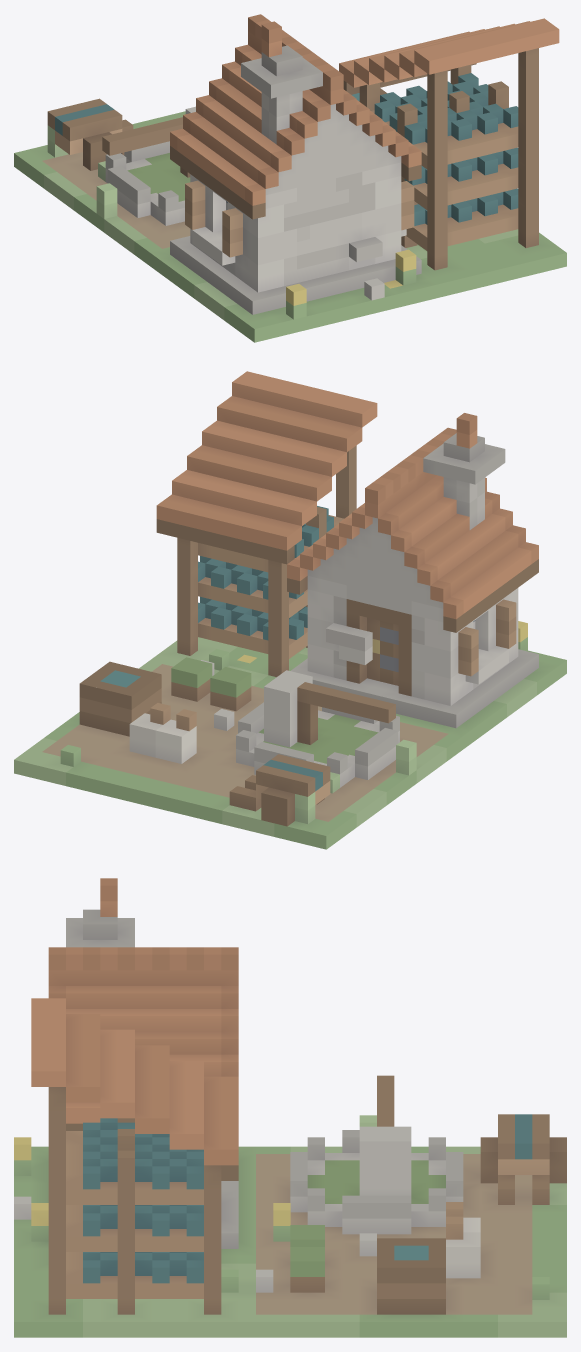
The model's file is woad_farm.glb.
The picture shows the model from 3 angles, top to bottom: view 1: azimuth 30°, elevation 25°; view 2: azimuth 150°, elevation 25°; view 3: azimuth 270°, elevation 25°; orthographic projection. The views are drawn at different scales.
Visible parts, largest first — view 1: woad_farm; view 2: woad_farm; view 3: woad_farm.
Boxes of the visible parts, left/top/right/bottom form: woad_farm: left=14, top=14, right=566, bottom=342; woad_farm: left=14, top=371, right=566, bottom=849; woad_farm: left=14, top=878, right=566, bottom=1337.
Bounding box in the file's own units: 3 × 2.5 × 4.
